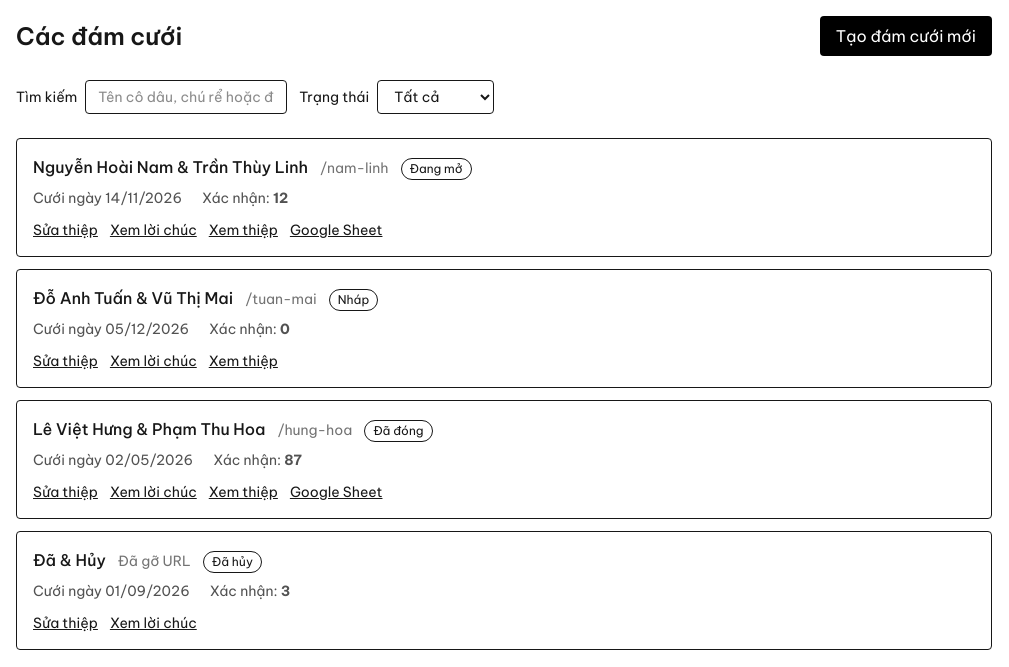
Test: BangDieuKhien › lọc theo tên khi gõ vào ô tìm kiếm
This screenshot has width=1009, height=667.
Type "Mai" into the field labelled "Tìm kiếm" at (186, 97), box [85,80,287,114]
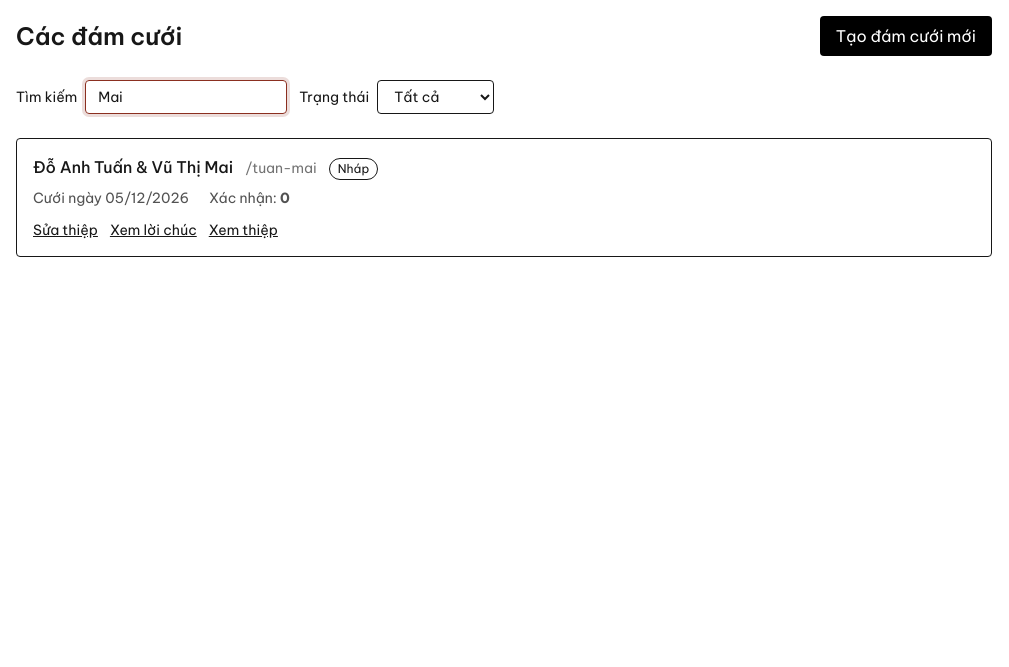
Expected: the text "Đỗ Anh Tuấn & Vũ Thị Mai" is shown, [33,155,233,179]
Now the text "Nguyễn Hoài Nam" is gone
